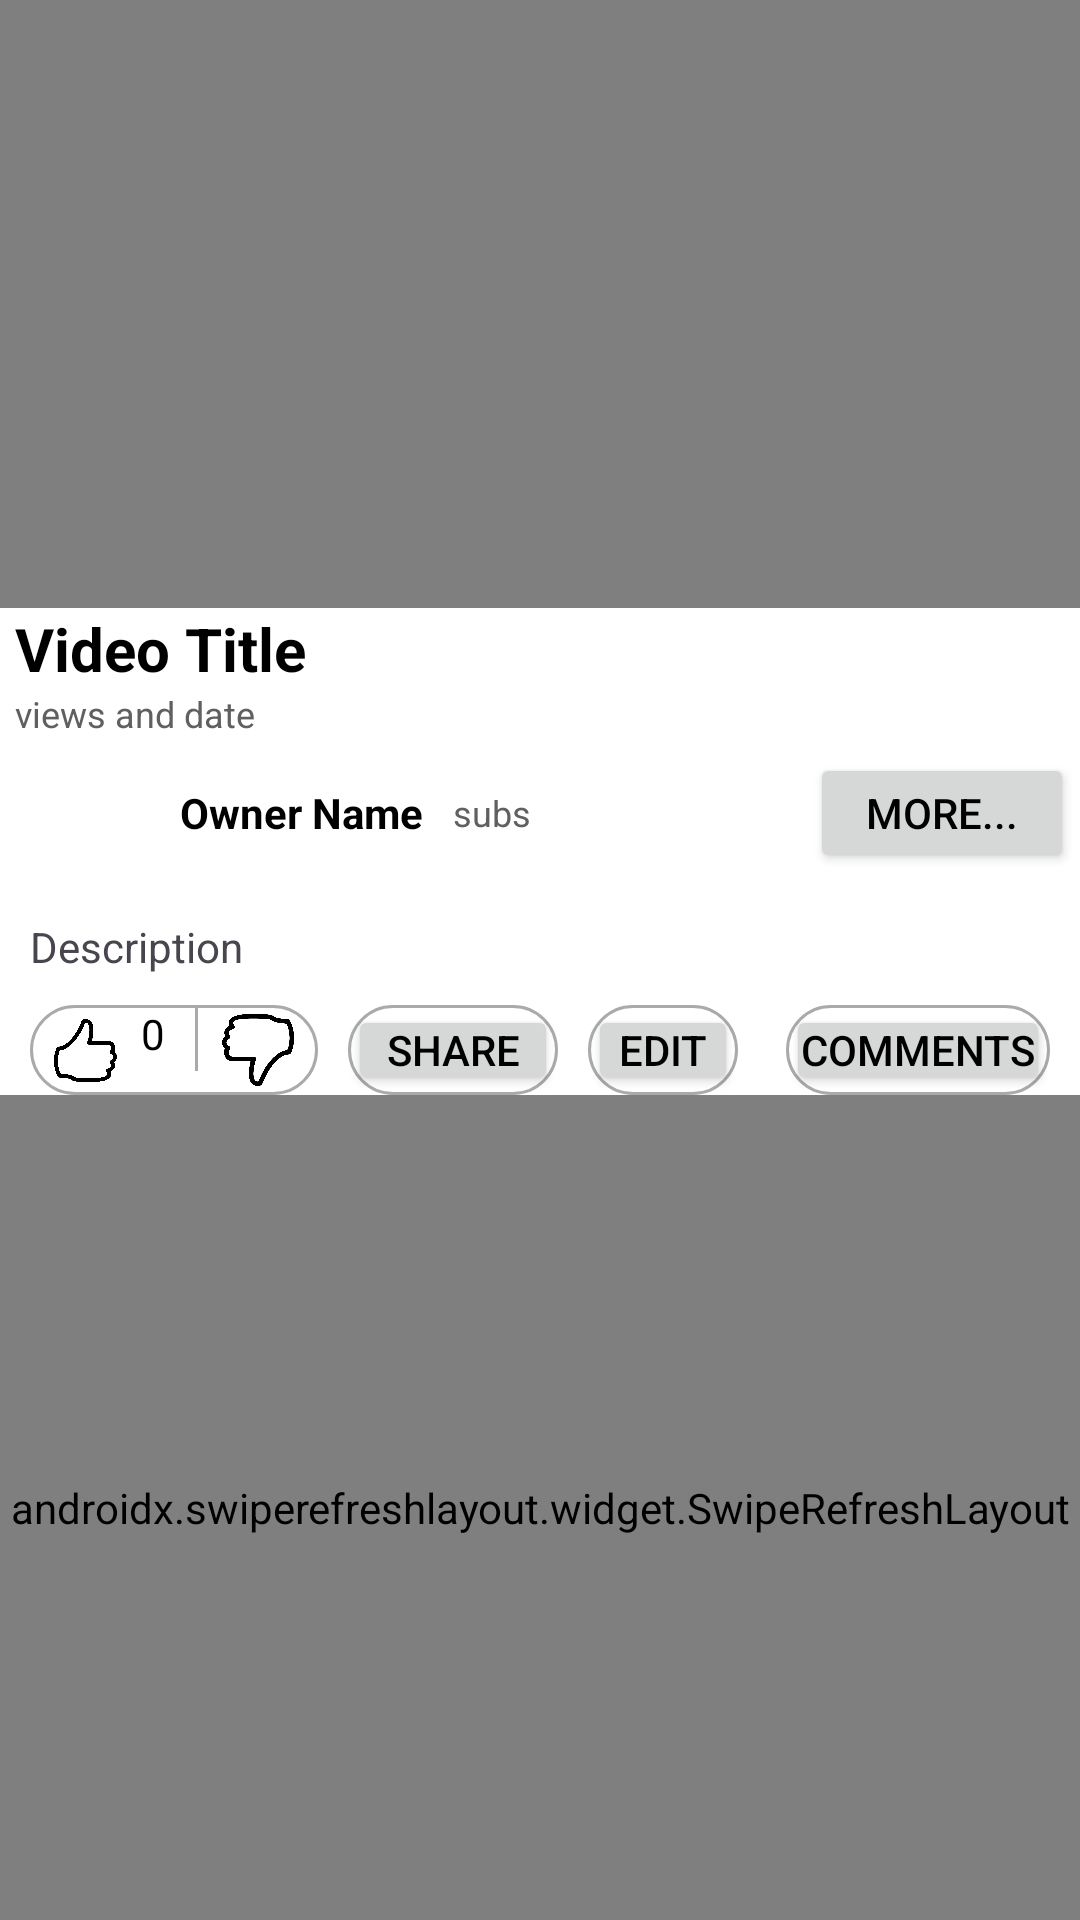

Icons on this 1080 x 1920 Android screen, each with its box as detection(x1, y1, x2, y2):
dislike button: detection(222, 1014, 294, 1086)
like button: detection(30, 1005, 141, 1095)
